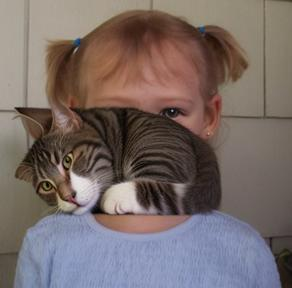cat: (14, 107, 221, 215)
person: (14, 9, 284, 288)
